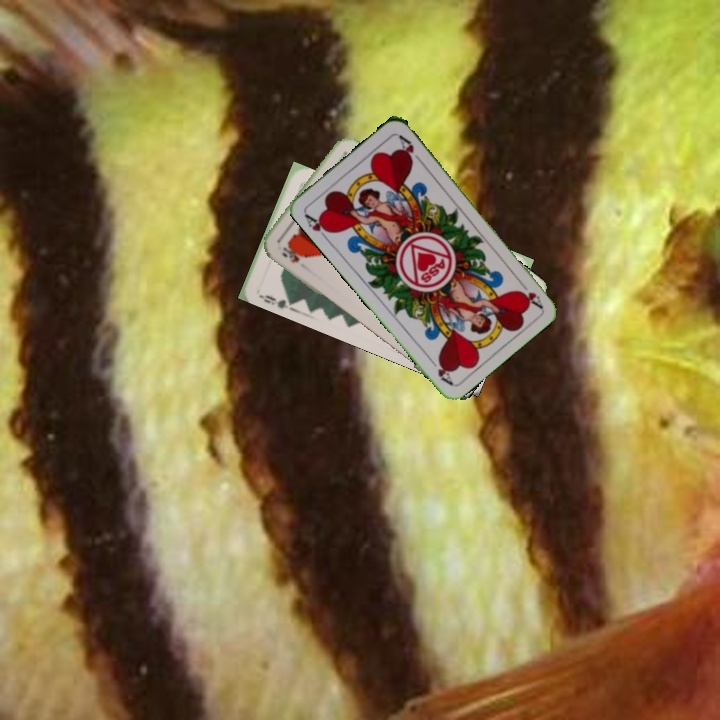G9: (255, 290, 295, 312)
HA: (300, 209, 335, 243), (514, 276, 544, 311)
HO: (277, 243, 305, 266)
